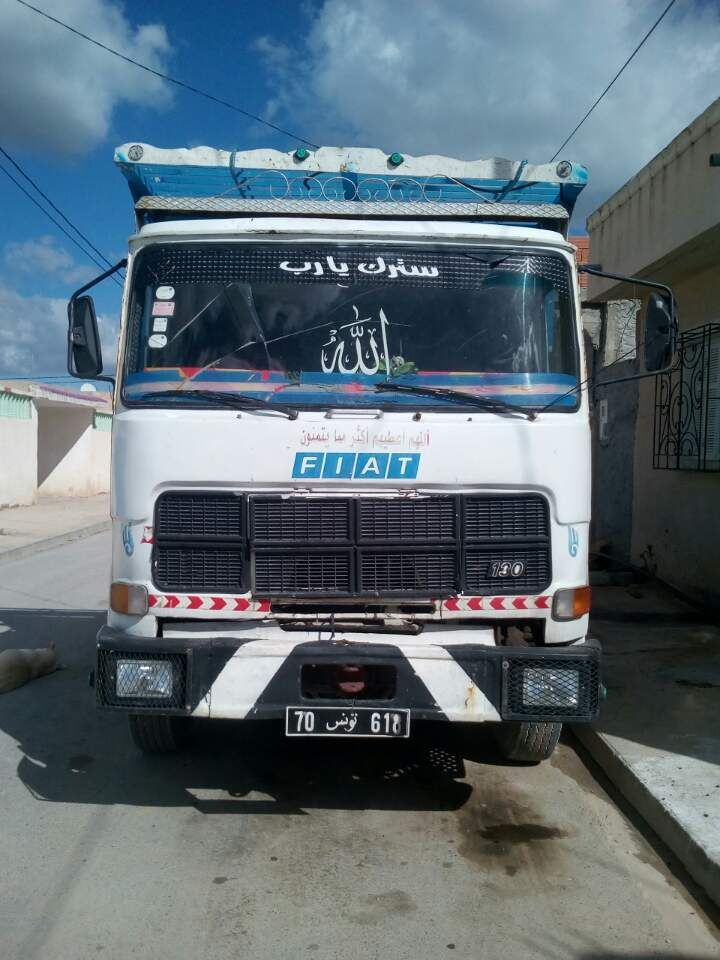LP: (283, 706, 413, 739)
